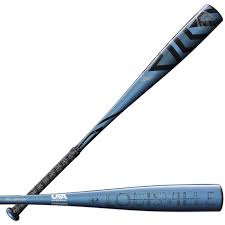baseball bat: (6, 3, 224, 221), (1, 185, 223, 212)
